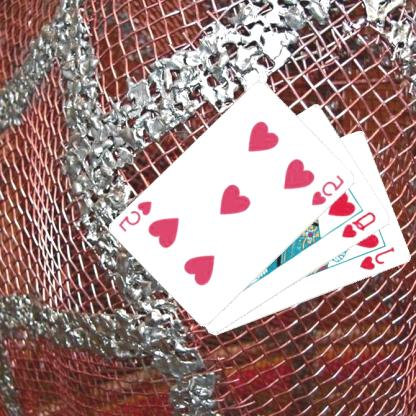5H: (310, 172, 348, 208), (118, 198, 156, 234)
JH: (359, 244, 398, 272)
QH: (341, 208, 380, 240)
